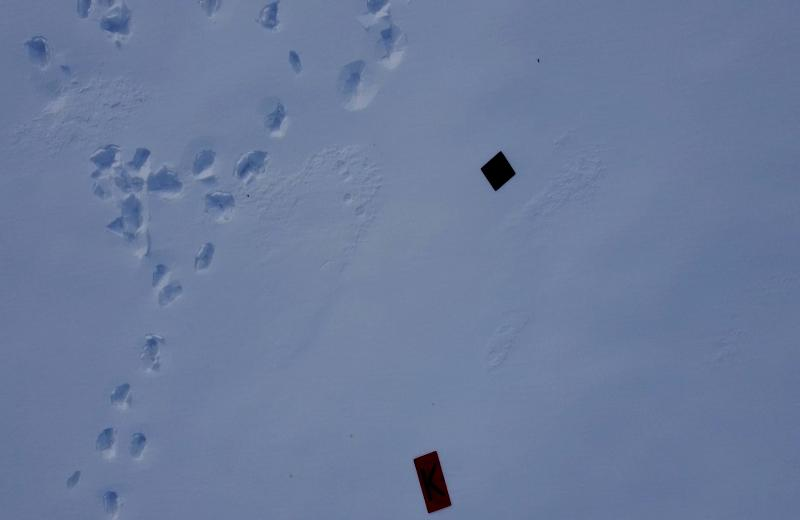Rectangle: (413, 448, 452, 514)
Square: (480, 150, 514, 190)
